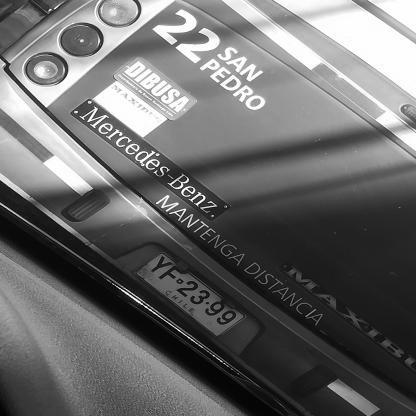Patente: (132, 250, 247, 339)
